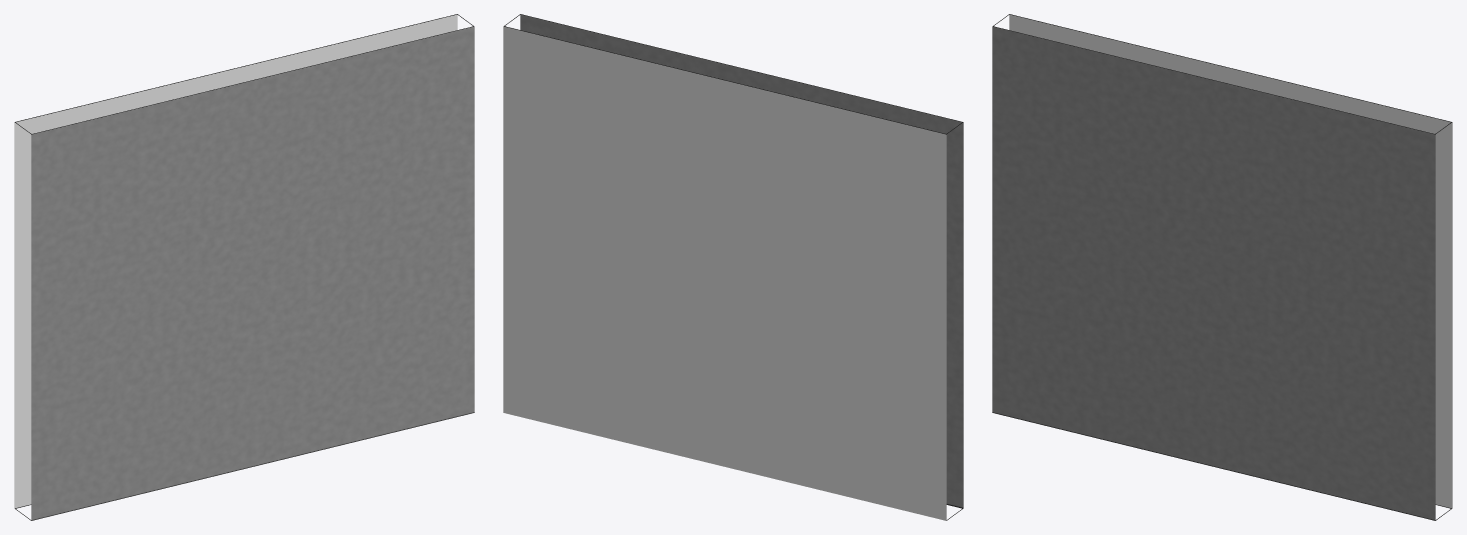
The model's file is mod_env_bp_walls.fbx.
3 views of the same model, side by side, from view 1: azimuth 30°, elevation 25°; view 2: azimuth 150°, elevation 25°; view 3: azimuth 330°, elevation 25° (orthographic).
Parts seen in each view (by area): view 1: concreteWall, concreteWall_withDoor, concreteWall_withWindow, concreteWall_withDoubleDoor; view 2: concreteWall, concreteWall_withDoor, concreteWall_withDoubleDoor, concreteWall_withWindow; view 3: concreteWall, concreteWall_withDoor, concreteWall_withDoubleDoor, concreteWall_withWindow.
Boxes of the visible parts, <box> form: concreteWall: <box>14,14,474,520</box>; concreteWall_withDoor: <box>14,15,474,520</box>; concreteWall_withWindow: <box>14,15,474,519</box>; concreteWall_withDoubleDoor: <box>14,15,474,520</box>; concreteWall: <box>503,14,963,520</box>; concreteWall_withDoor: <box>503,15,963,519</box>; concreteWall_withDoubleDoor: <box>503,15,963,519</box>; concreteWall_withWindow: <box>503,15,963,519</box>; concreteWall: <box>992,14,1452,520</box>; concreteWall_withDoor: <box>992,15,1452,520</box>; concreteWall_withDoubleDoor: <box>992,16,1452,518</box>; concreteWall_withWindow: <box>992,15,1452,517</box>.
Size of the model in its own units: 600 by 500 by 40.
